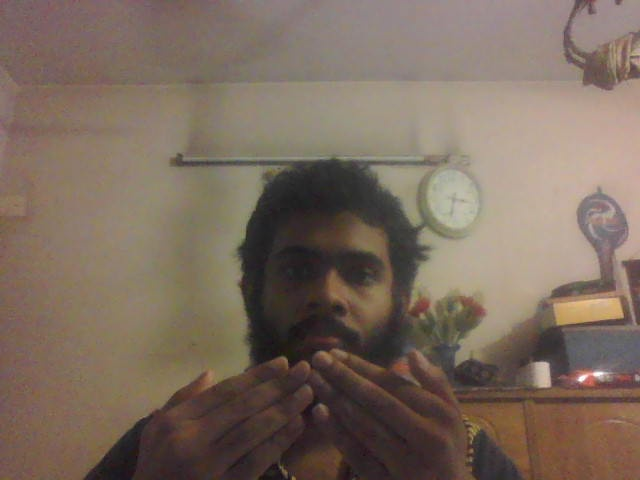Thank You: (137, 350, 475, 480)
